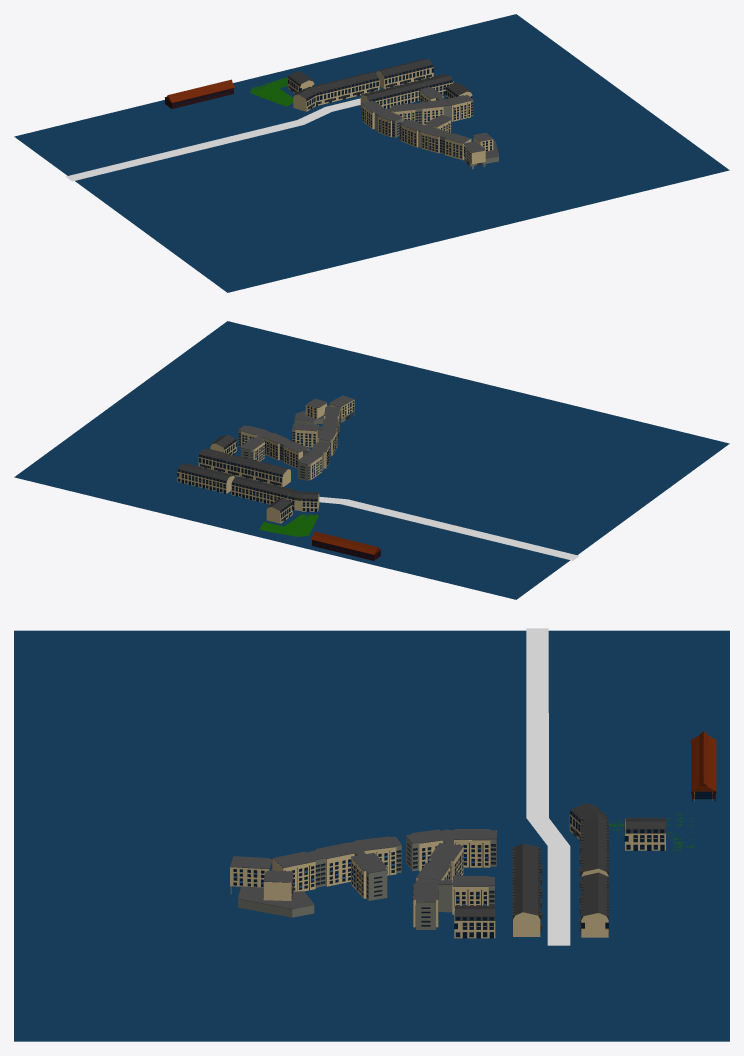
Rendered from BlocksSecurity.glb.
The picture shows the model from 3 angles, top to bottom: view 1: azimuth 30°, elevation 25°; view 2: azimuth 150°, elevation 25°; view 3: azimuth 270°, elevation 25°; orthographic projection. The views are drawn at different scales.
Visible parts, largest first — view 1: Plane.002, Plane.003, MailOfficeGrass; view 2: Plane.002, Plane.003, MailOfficeGrass; view 3: Plane.002, Plane.003, LowerRoof, MainBlock.013, MainBlock.012.
Part boxes in pixels (box(x1,y1,x2,y2)): Plane.002: box(14, 14, 729, 292); Plane.003: box(66, 81, 453, 181); MailOfficeGrass: box(250, 77, 293, 106); Plane.002: box(14, 321, 729, 599); Plane.003: box(319, 496, 579, 560); MailOfficeGrass: box(259, 514, 318, 536); Plane.002: box(14, 630, 729, 1041); Plane.003: box(526, 628, 570, 945); LowerRoof: box(691, 735, 716, 791); MainBlock.013: box(238, 886, 314, 909); MainBlock.012: box(238, 899, 314, 917).
Bounding box in the file's own units: 408 × 13.74 × 299.
